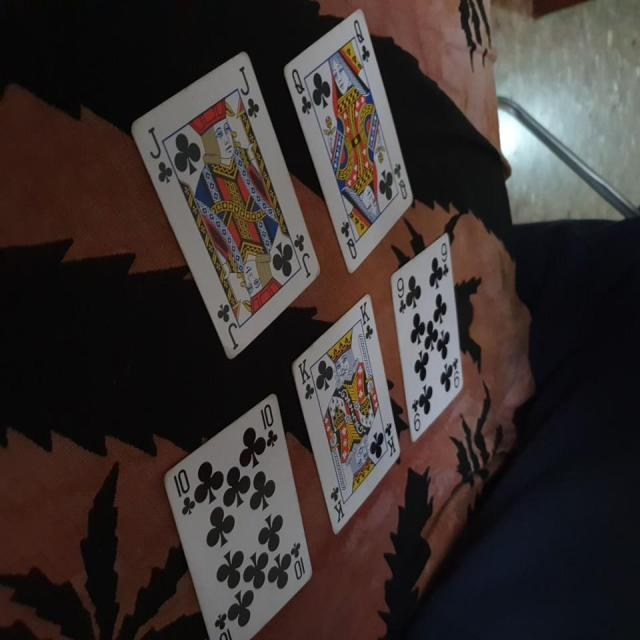10 of clubs: (161, 391, 312, 640)
9 of clubs: (388, 228, 464, 442)
jack of clubs: (126, 50, 320, 362)
king of clubs: (289, 294, 403, 535)
queen of clubs: (284, 10, 414, 274)
